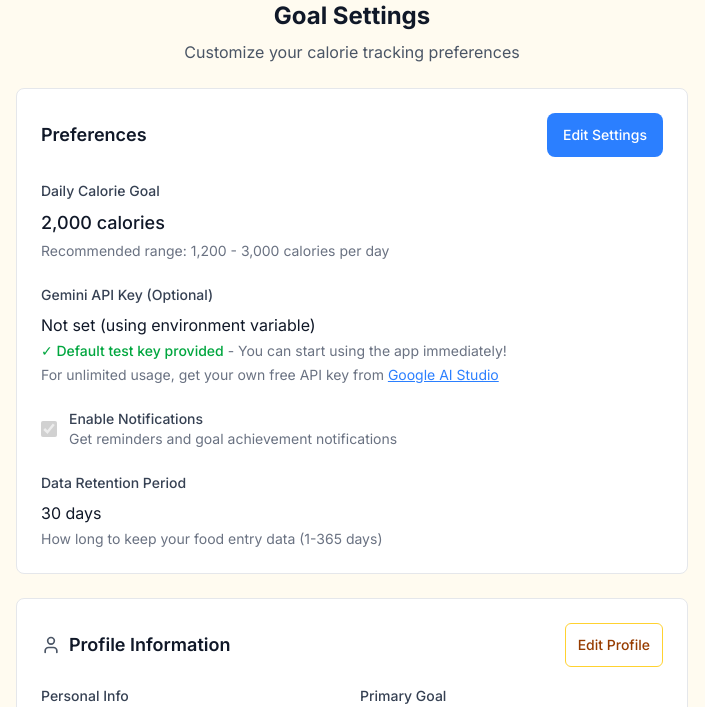
Test case: GoalSettings Profile Management › shows profile edit form with pre-filled data
The image size is (705, 707).
Click the button "Edit Profile".
click(614, 645)  # box [565,623,663,667]
(page scrolled)
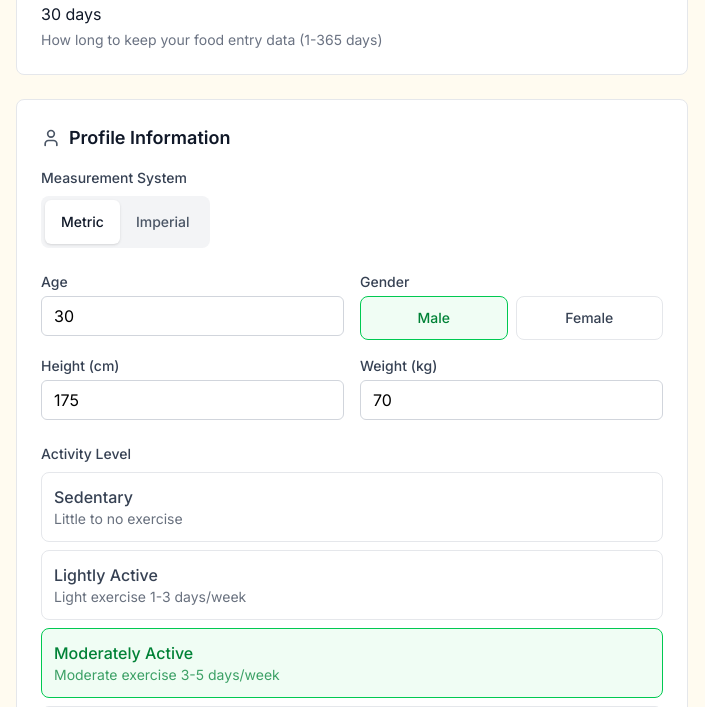
Check: the number field showing "30" is shown, box [41,296,344,336]
Check: the number field showing "175" is shown, box [41,380,344,420]
Check: the number field showing "70" is shown, box [360,380,663,420]
